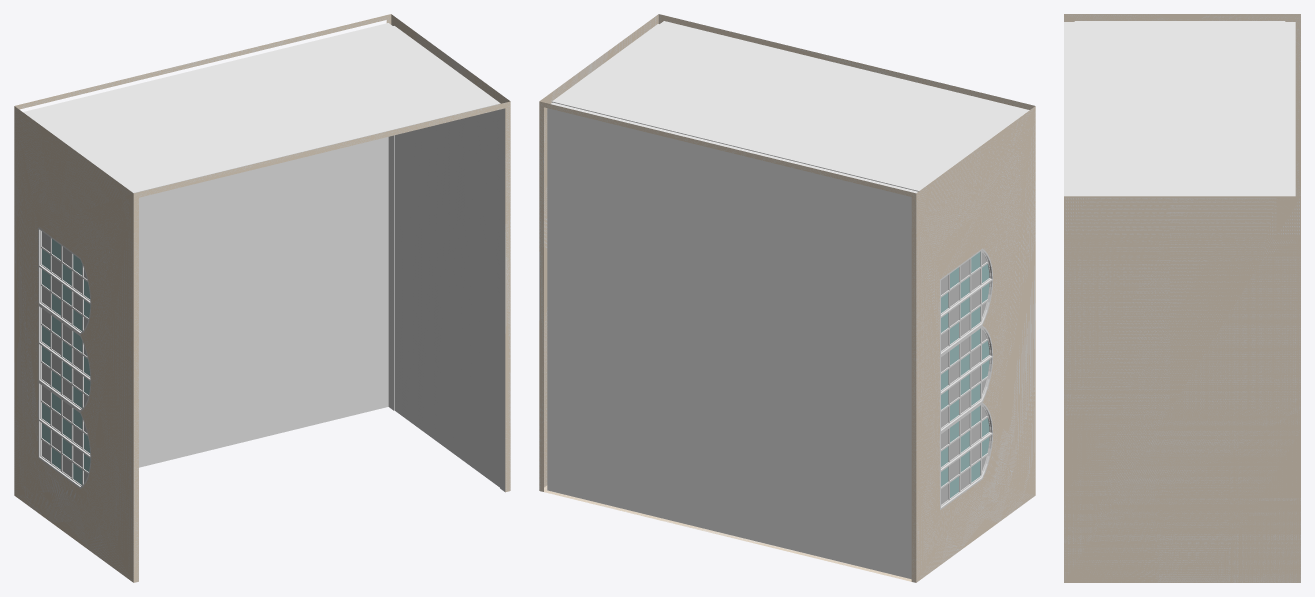
File: room09.obj
The picture shows the model from 3 angles, left to right: view 1: azimuth 30°, elevation 25°; view 2: azimuth 150°, elevation 25°; view 3: azimuth 270°, elevation 25°; orthographic projection.
Visible parts, largest first — view 1: room09; view 2: room09; view 3: room09.
Boxes of the visible parts, left/top/right/bottom form: room09: left=14, top=14, right=510, bottom=582; room09: left=539, top=14, right=1035, bottom=582; room09: left=1064, top=14, right=1300, bottom=582.
Bounding box in the file's own units: 246 × 243 × 135.
